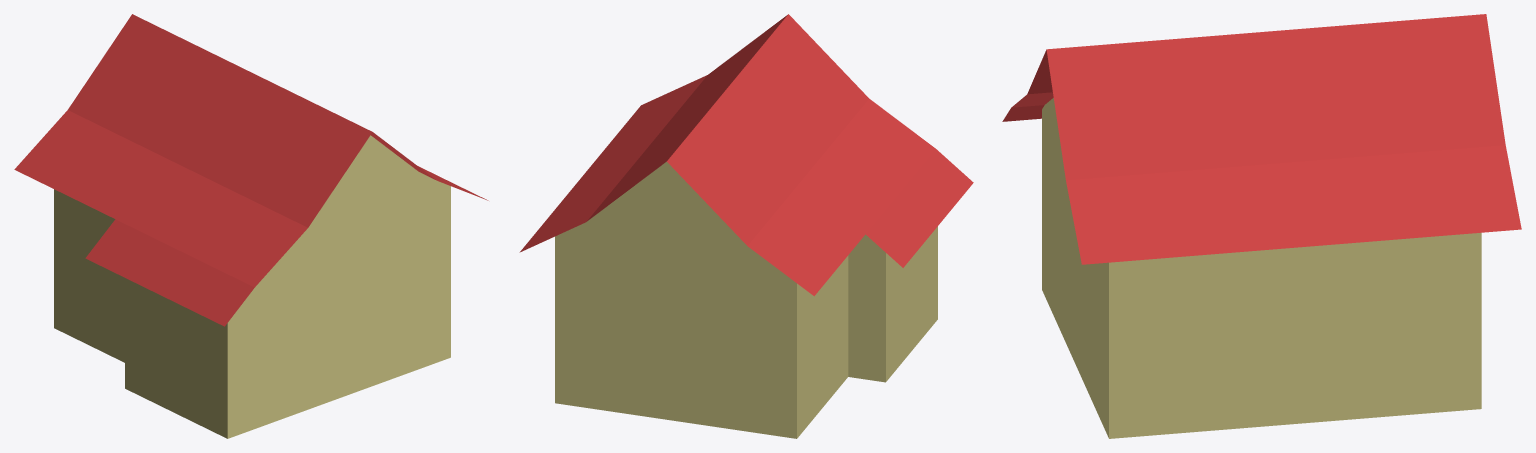
3 renders of one model, left to right at view 1: azimuth 30°, elevation 25°; view 2: azimuth 150°, elevation 25°; view 3: azimuth 270°, elevation 25°, orthographic. The views are drawn at different scales.
Size of the model in its own units: 13.69 by 15.21 by 10.59.
